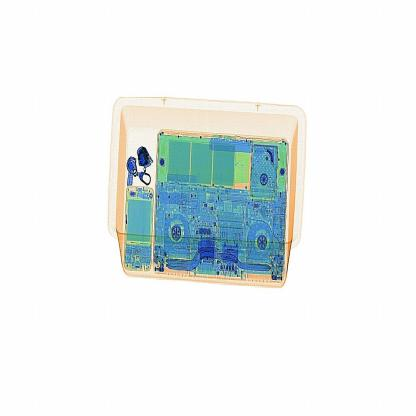scissors: (132, 141, 156, 171)
